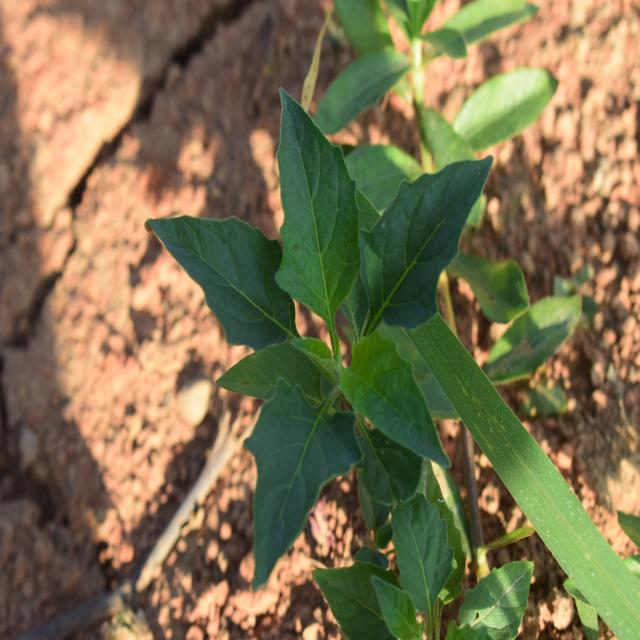Black_nightshade: (149, 82, 472, 538)
